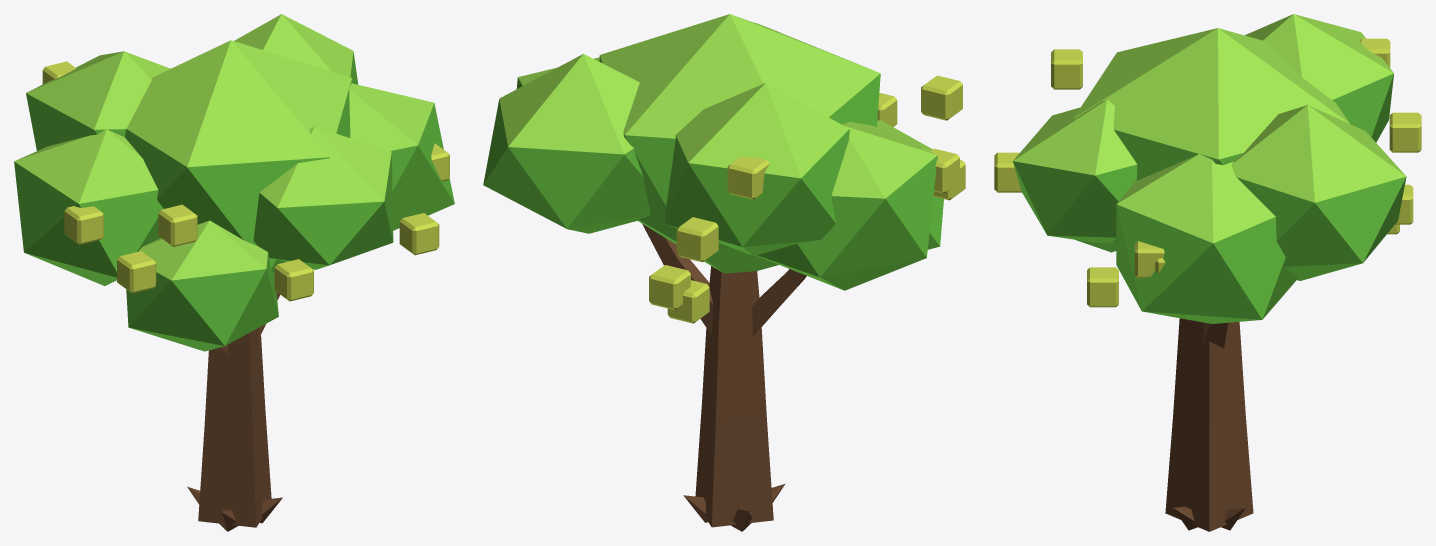
The model's file is PearTree.fbx.
3 renders of one model, left to right at view 1: azimuth 30°, elevation 25°; view 2: azimuth 150°, elevation 25°; view 3: azimuth 270°, elevation 25°, orthographic. The views are drawn at different scales.
Visible parts, largest first — view 1: PearTree; view 2: PearTree; view 3: PearTree.
Boxes of the visible parts, box(x1,y1,x2,y2) form: PearTree: box(14, 14, 454, 531); PearTree: box(483, 14, 965, 531); PearTree: box(994, 14, 1421, 531).
Bounding box in the file's own units: 12.39 × 14.22 × 11.16.
1 material, 1 textured.
